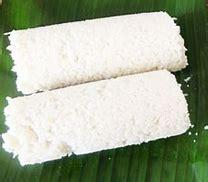Pittu: (5, 18, 197, 163)
